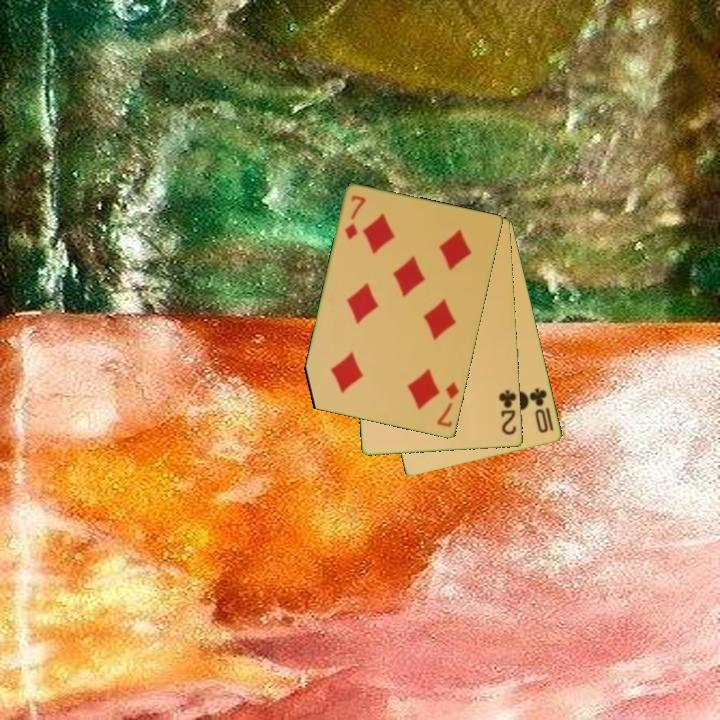10c: (526, 385, 557, 436)
2c: (495, 386, 520, 438)
7d: (433, 379, 462, 430), (341, 192, 369, 243)
